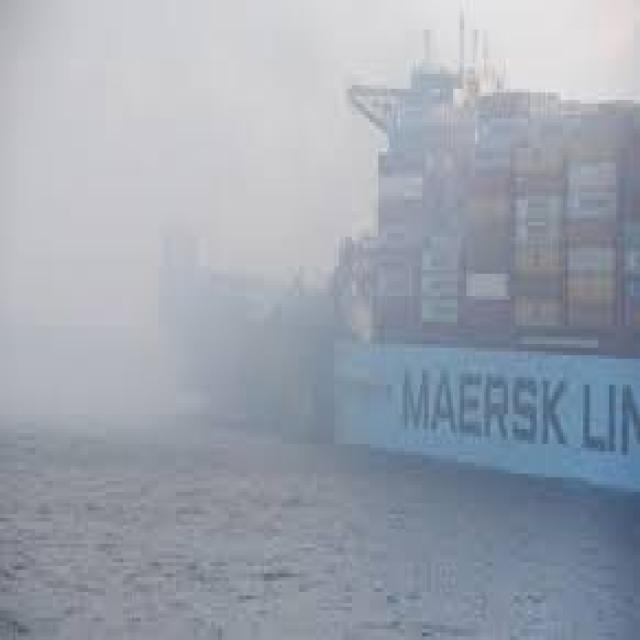cargoship: (323, 33, 640, 501)
